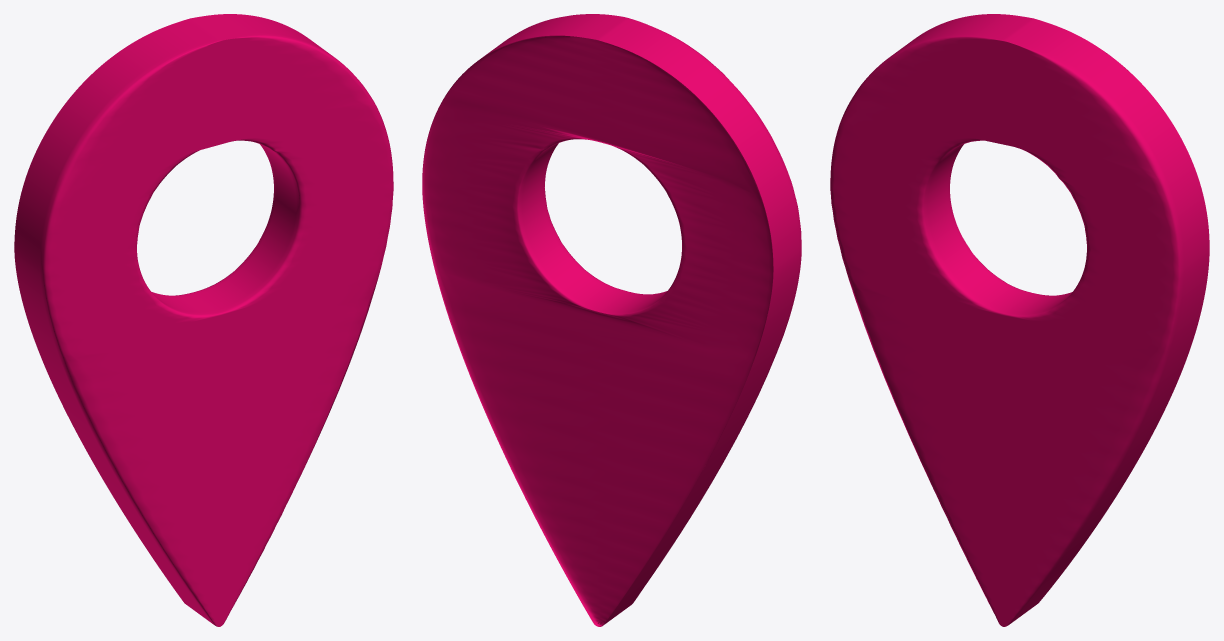
The model's file is pink.gltf.
The picture shows the model from 3 angles, left to right: view 1: azimuth 30°, elevation 25°; view 2: azimuth 150°, elevation 25°; view 3: azimuth 330°, elevation 25°; orthographic projection.
Visible parts, largest first — view 1: Curve_2; view 2: Curve_2; view 3: Curve_2.
Part boxes in pixels (x1,y1,x2,y2): Curve_2: [14, 14, 393, 626]; Curve_2: [422, 14, 801, 626]; Curve_2: [830, 14, 1209, 626].
Bounding box in the file's own units: 0.2761 × 0.4404 × 0.0416.
